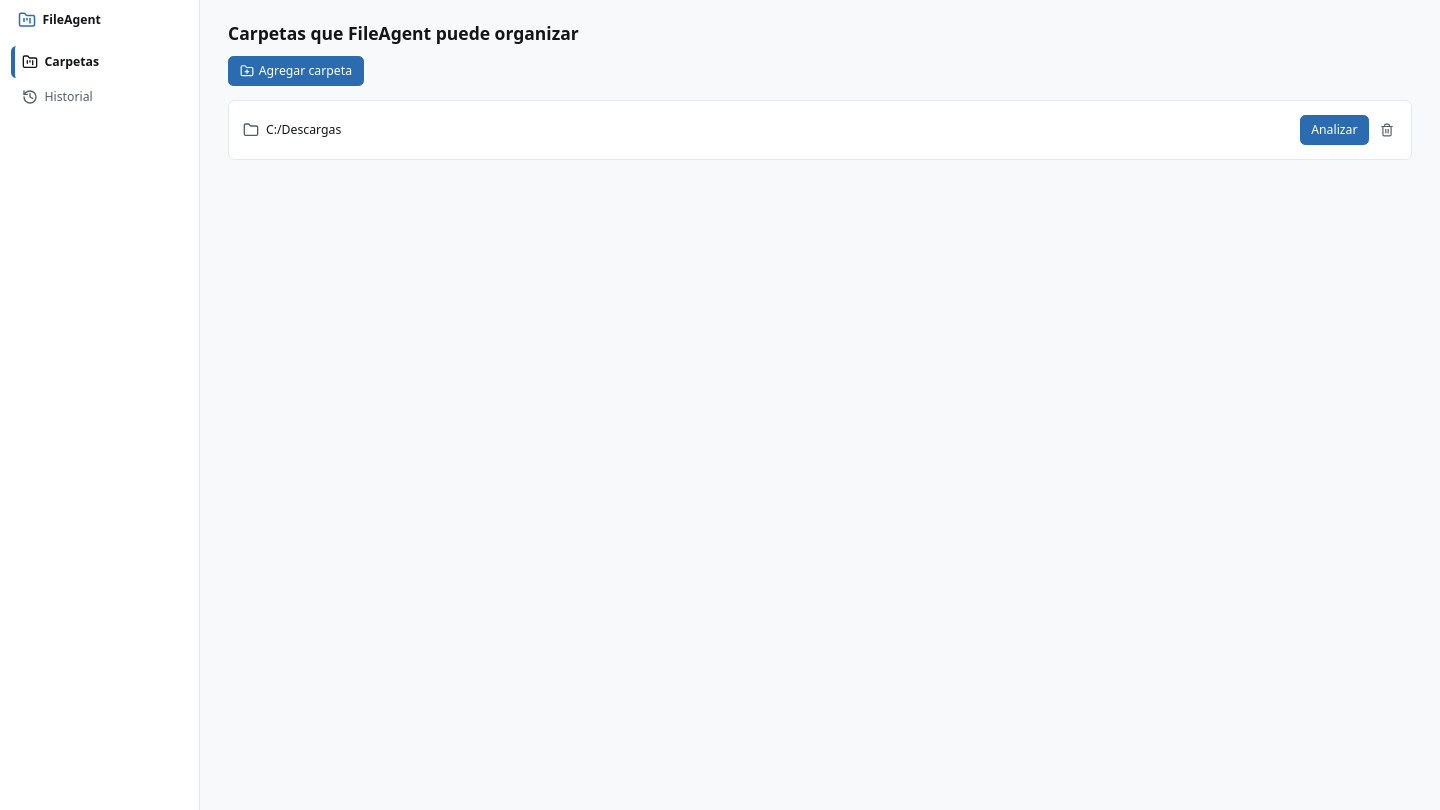
Test: App -- destination setup cross-navigation lifecycle (FA-017.2) › Major-1 remediation: a completed setup marks Plan A non-authoritative; it does not resurrect as actionable after navigating away and back; only explicit reanaly
The image size is (1440, 810).
Click the button "Analizar": [1334, 130] box [1300,115,1369,145]
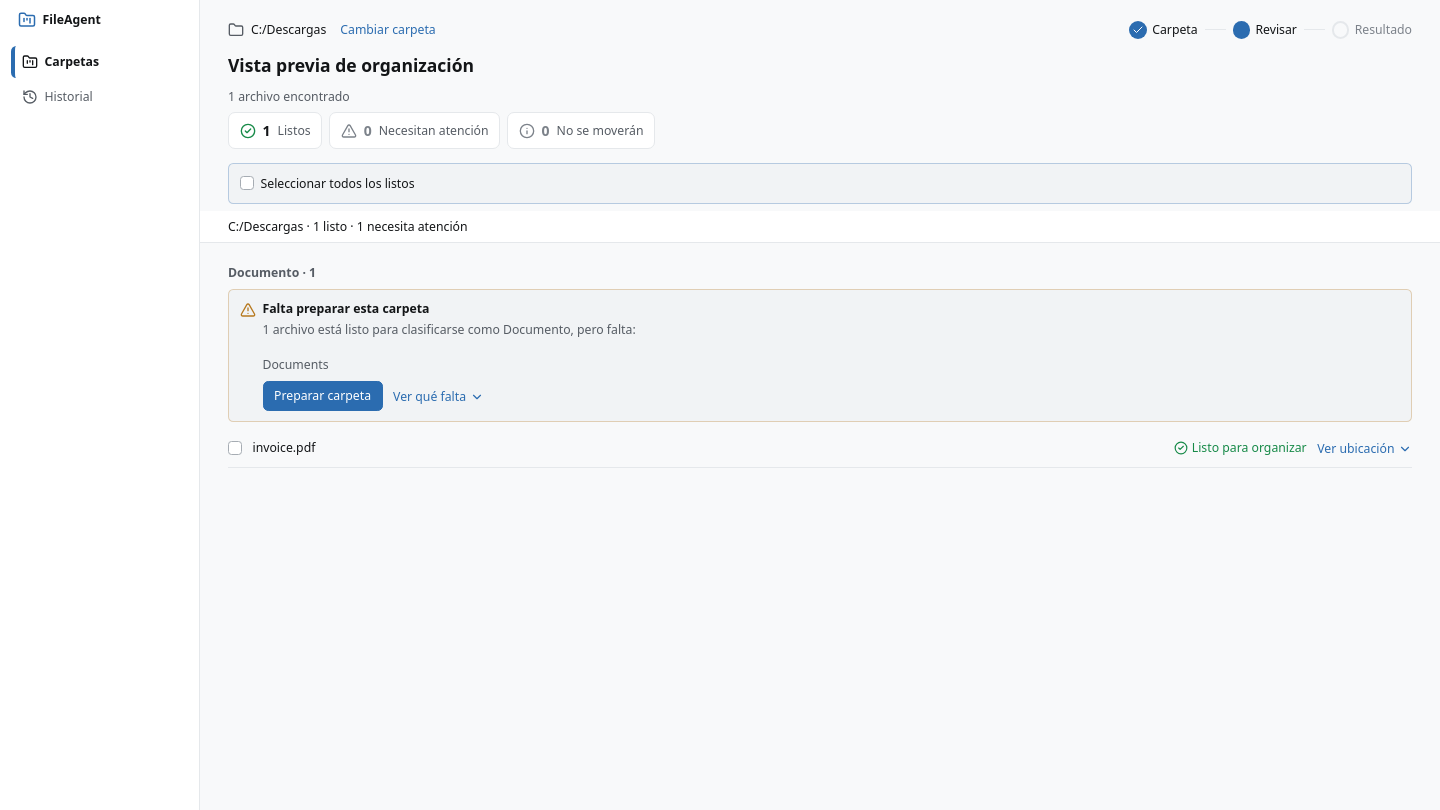
Check: the checkbox named "Seleccionar invoice.pdf" is shown, box [228,441,242,455]
Click the button "Preparar carpeta": [322, 396] box [262,380,382,410]
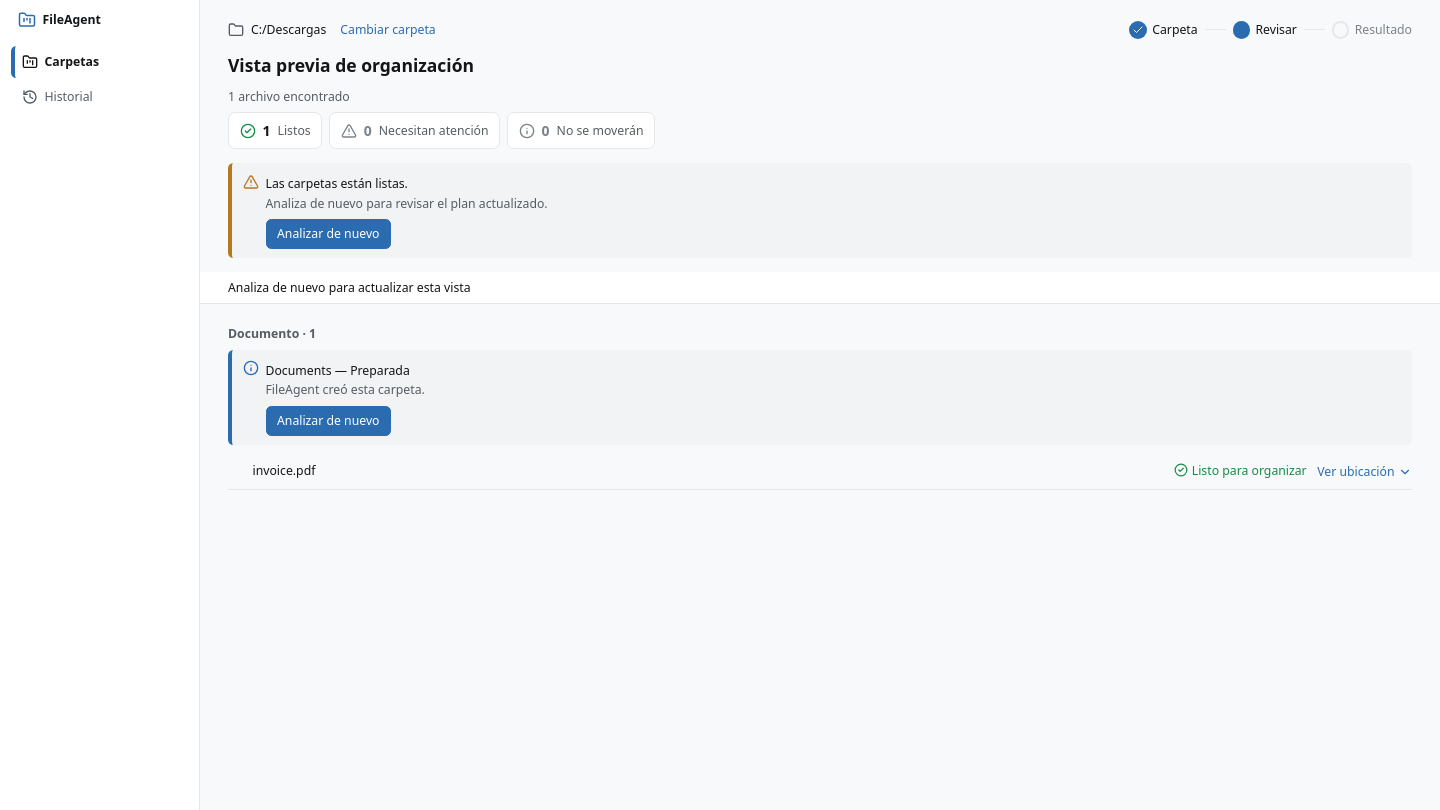
Check: the text "Documents — Preparada" is shown, box [266,362,410,378]
Check: the text "Las carpetas están listas." is shown, box [266,175,408,192]
# Navigate away, then back to the SAME managed root.
Click the button "Carpetas": [100, 62] box [10,46,188,78]
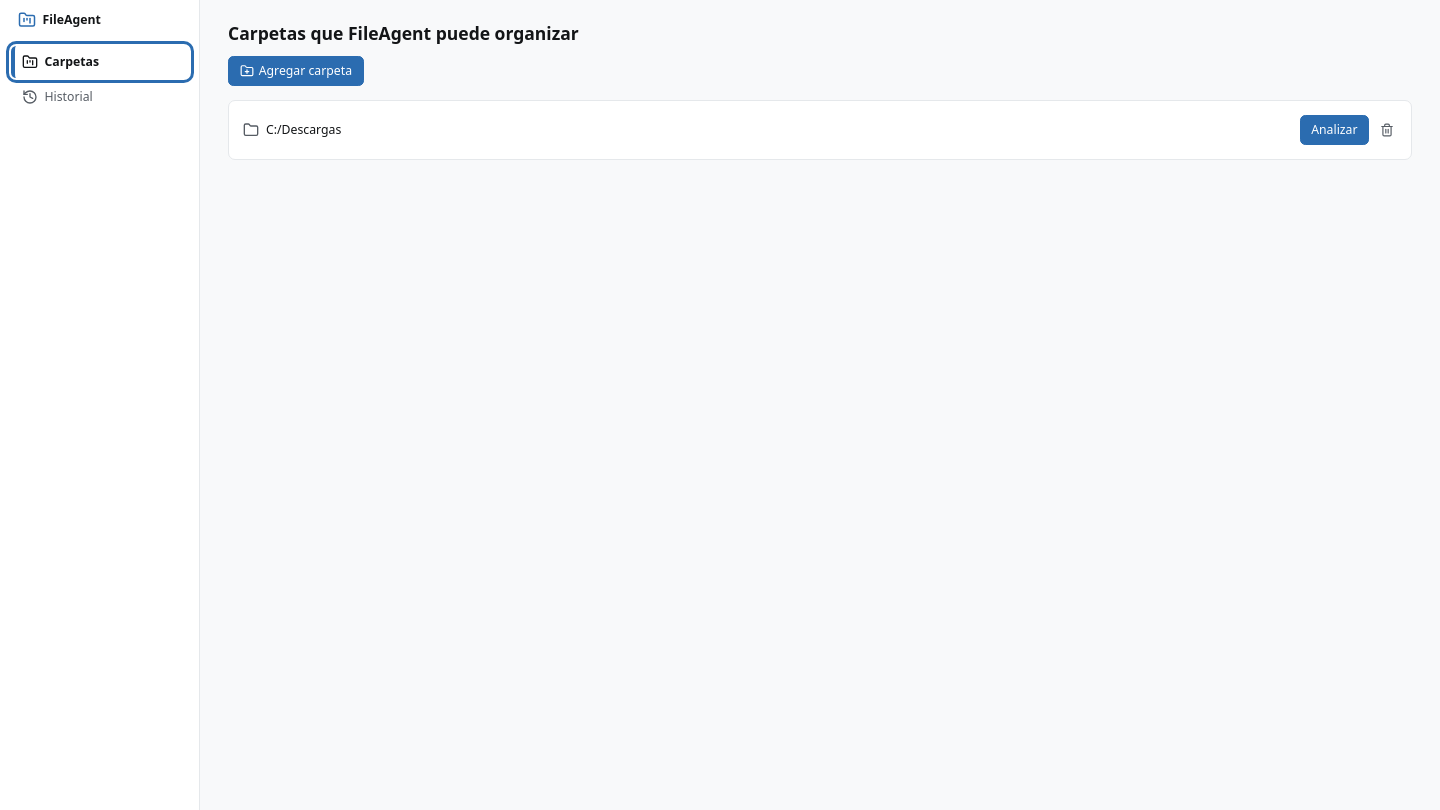
Click the button "Analizar": [1334, 130] box [1300,115,1369,145]
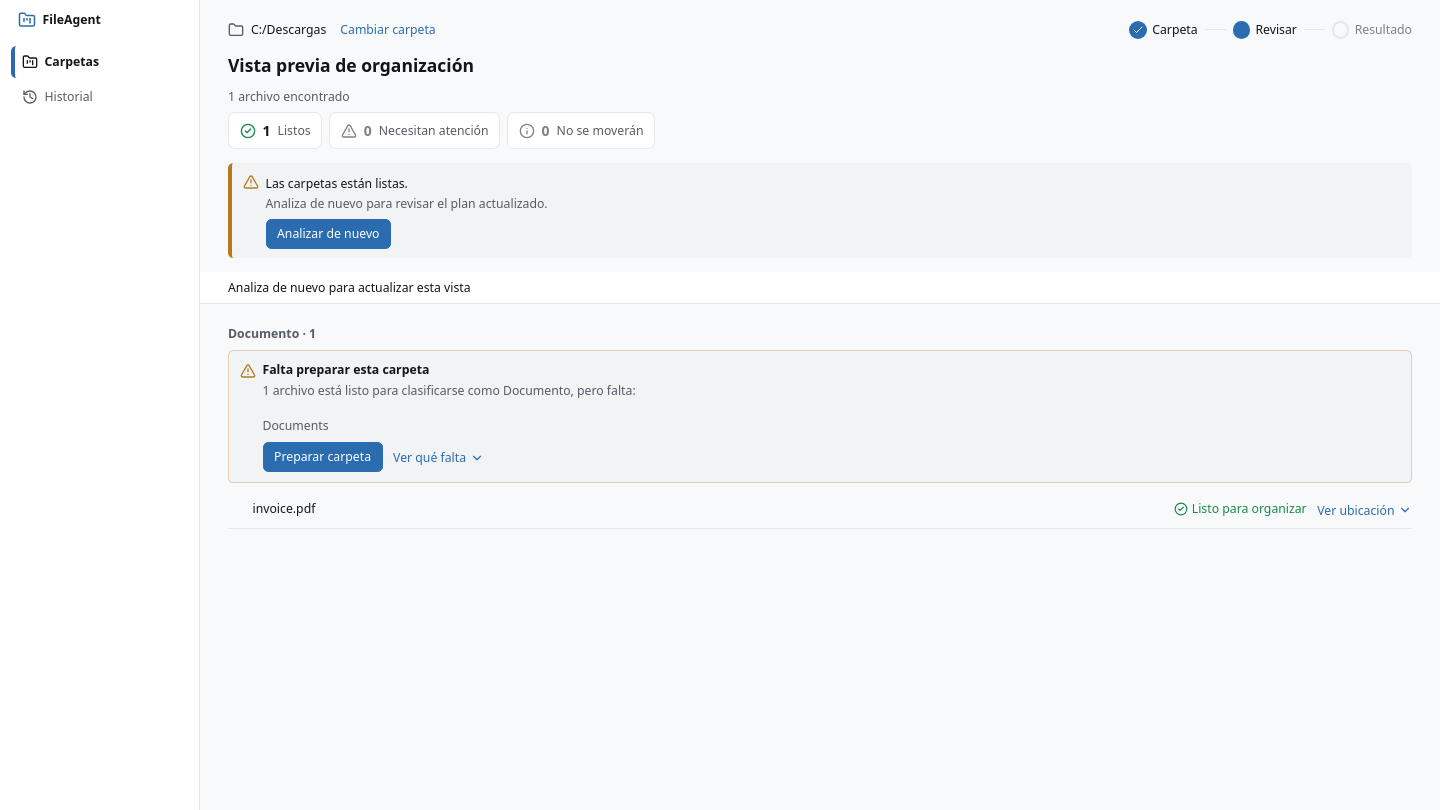
Check: the text "Las carpetas están listas." is shown, box [266,175,408,192]
# Only explicit "Analizar de nuevo" obtains the next actionable plan.
Click the button "Analizar de nuevo": [328, 234] box [266,219,391,249]
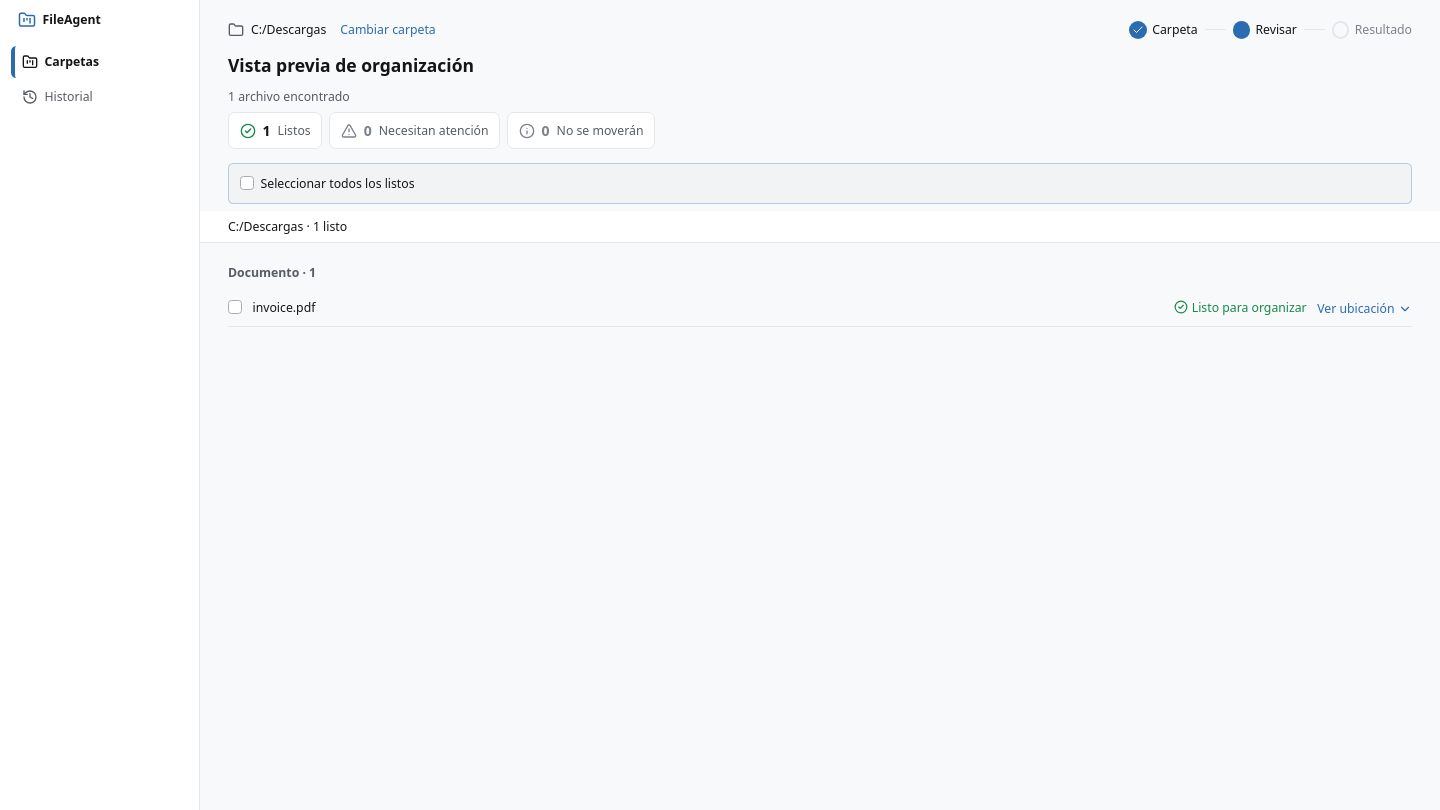
Check: the checkbox named "Seleccionar invoice.pdf" is shown, box [228,300,242,314]
Check: the text "Las carpetas están listas." is gone
